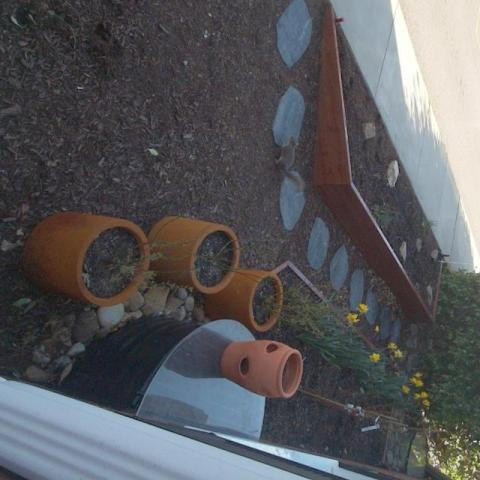small_animal: (8, 2, 79, 38), (276, 134, 308, 199)
